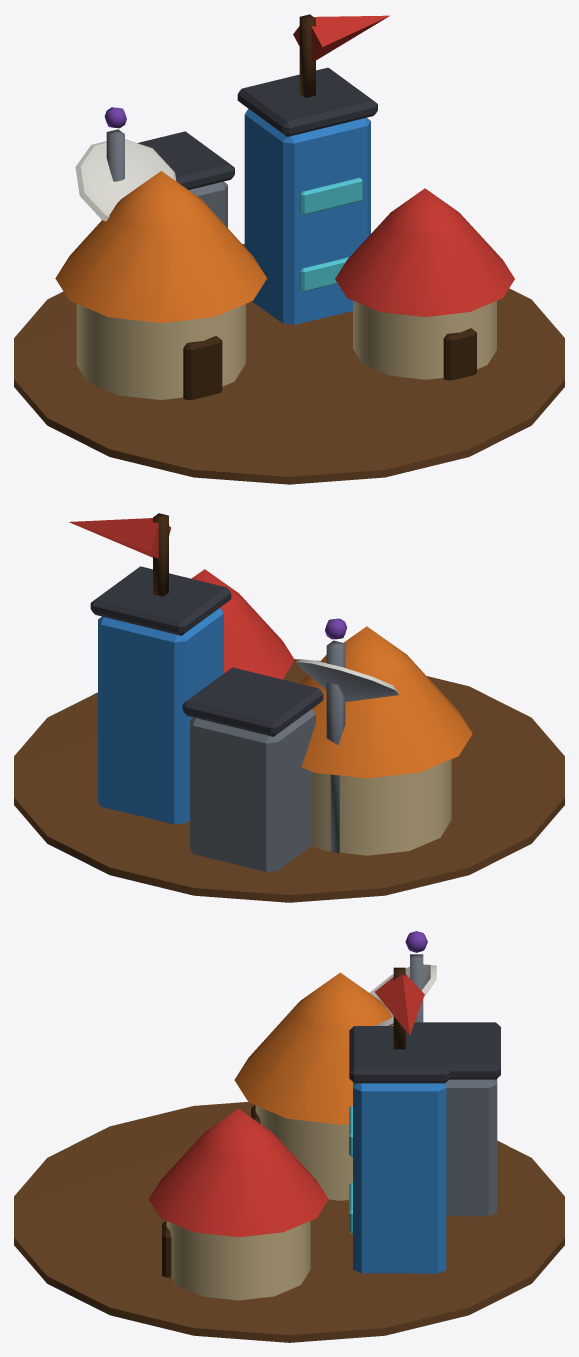
The picture shows the model from 3 angles, top to bottom: view 1: azimuth 30°, elevation 25°; view 2: azimuth 150°, elevation 25°; view 3: azimuth 270°, elevation 25°; orthographic projection.
Visible parts, largest first — view 1: vila_0_base, vila_1_torreta; view 2: vila_0_base, vila_1_torreta; view 3: vila_0_base, vila_1_torreta.
Boxes of the visible parts, bbox=[...] form: vila_0_base: bbox=[14, 67, 564, 484]; vila_1_torreta: bbox=[293, 14, 389, 97]; vila_0_base: bbox=[14, 566, 564, 902]; vila_1_torreta: bbox=[69, 513, 171, 596]; vila_0_base: bbox=[14, 931, 564, 1342]; vila_1_torreta: bbox=[375, 967, 424, 1049].
Bounding box in the file's own units: 1.32 × 0.76 × 1.3.
